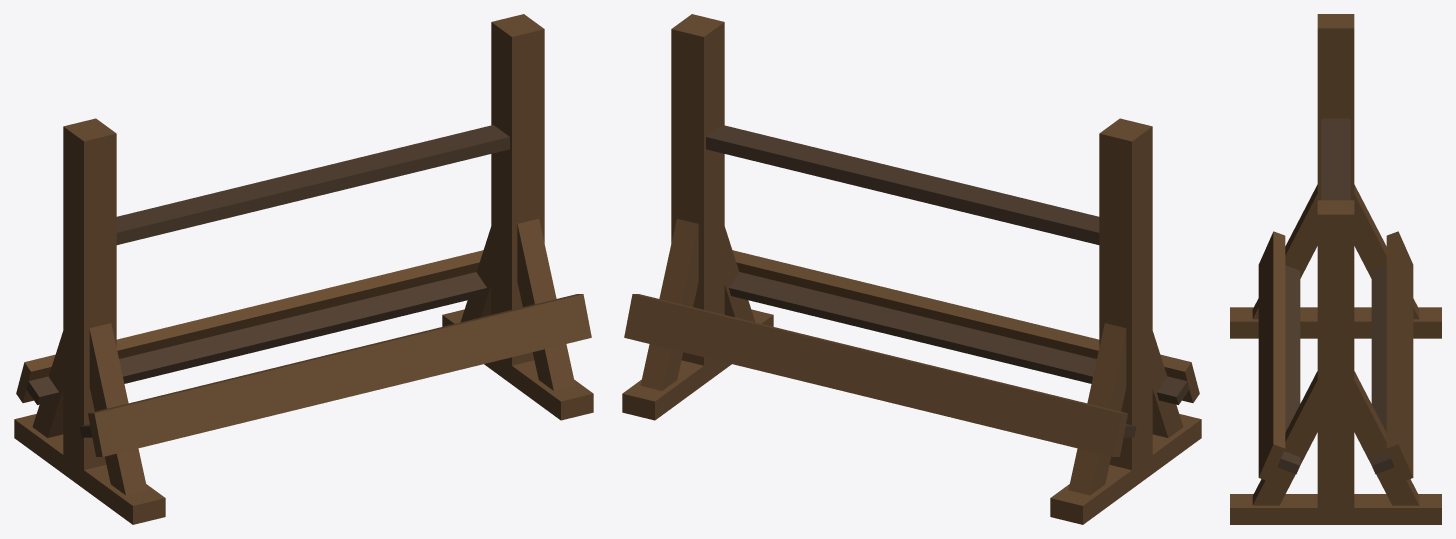
Rendered from SM_Weapon_Stand_Spear_Empty_Empire.fbx.
3 views of the same model, side by side, from view 1: azimuth 30°, elevation 25°; view 2: azimuth 150°, elevation 25°; view 3: azimuth 270°, elevation 25° (orthographic). The views are drawn at different scales.
Parts seen in each view (by area): view 1: SM_Weapon_Stand_Spear_Empty_Empire; view 2: SM_Weapon_Stand_Spear_Empty_Empire; view 3: SM_Weapon_Stand_Spear_Empty_Empire.
Part boxes in pixels (bbox=[...]): SM_Weapon_Stand_Spear_Empty_Empire: bbox=[14, 14, 593, 524]; SM_Weapon_Stand_Spear_Empty_Empire: bbox=[622, 14, 1201, 524]; SM_Weapon_Stand_Spear_Empty_Empire: bbox=[1230, 14, 1441, 524].
Size of the model in its own units: 2.1 by 1.42 by 0.88.
